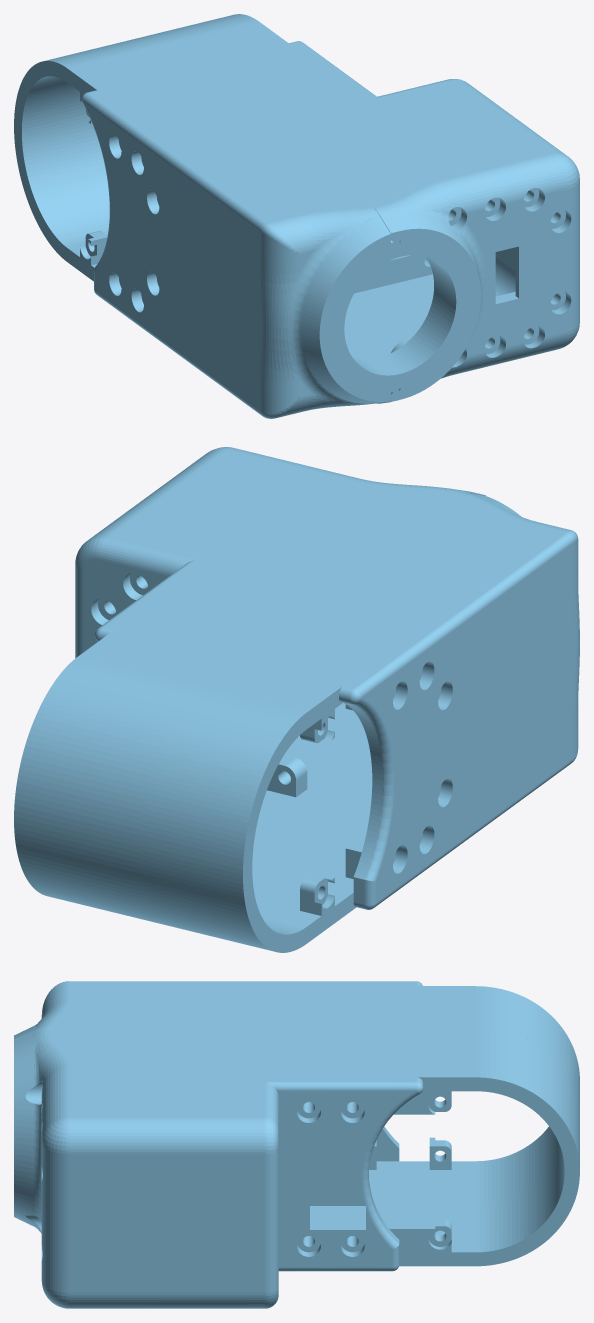
Rendered from FLO-ARM-02 MIDDLE ARM DOUBLE MOUNT-LEFT.dae.
3 views of the same model, one above another, from view 1: azimuth 30°, elevation 25°; view 2: azimuth 150°, elevation 25°; view 3: azimuth 270°, elevation 25° (orthographic). The views are drawn at different scales.
Visible parts, largest first — view 1: 5c801ead2f5958146904df92 (×2); view 2: 5c801ead2f5958146904df92 (×2); view 3: 5c801ead2f5958146904df92 (×2).
Part boxes in pixels (box(x1,y1,x2,y2)): 5c801ead2f5958146904df92 (×2): box(14, 14, 579, 418); 5c801ead2f5958146904df92 (×2): box(14, 447, 579, 952); 5c801ead2f5958146904df92 (×2): box(14, 981, 579, 1308).
Size of the model in its own units: 0.0649 by 0.1034 by 0.0381.
